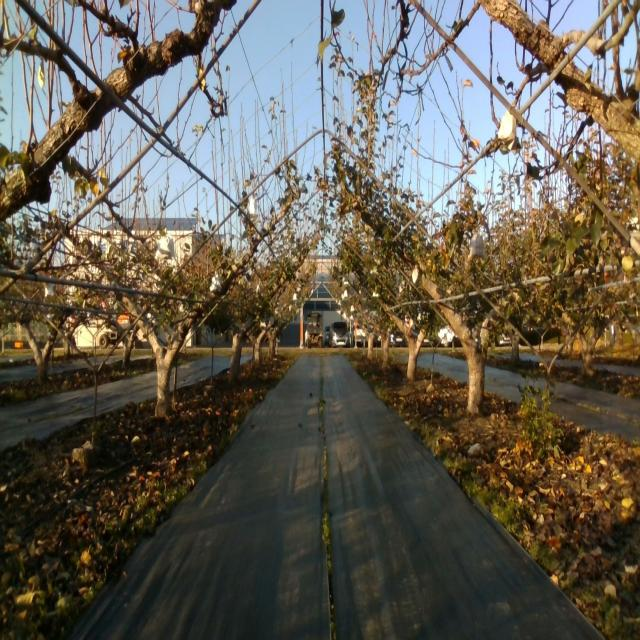pearbags: (498, 110, 518, 155), (155, 232, 175, 262), (468, 232, 488, 261), (209, 270, 222, 292)
